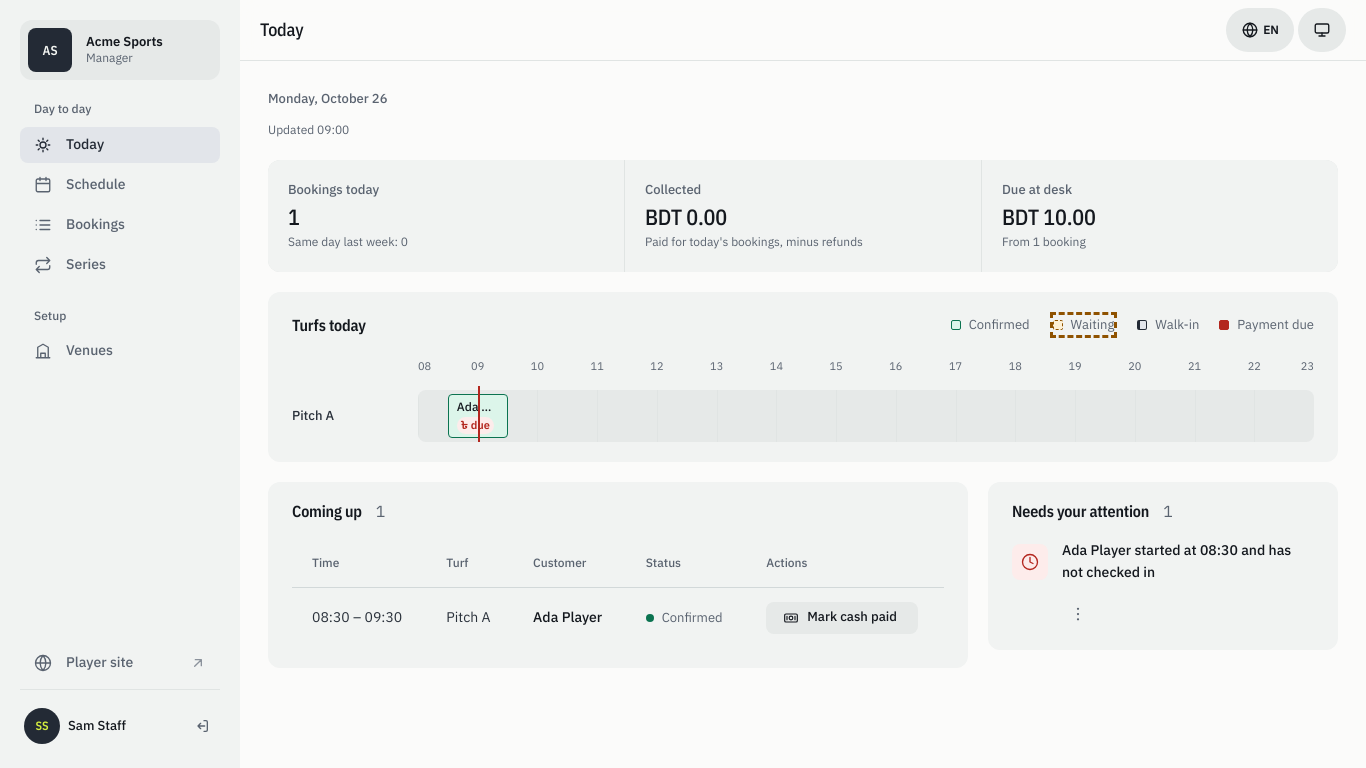
Scenario: Today page › Coming up keeps an open cash dialog when its game ends on refresh
What coordinates should you click on to do the following:
click the button "Mark cash paid"
I would click on:
 (842, 618)
Its box is left=766, top=602, right=918, bottom=634.
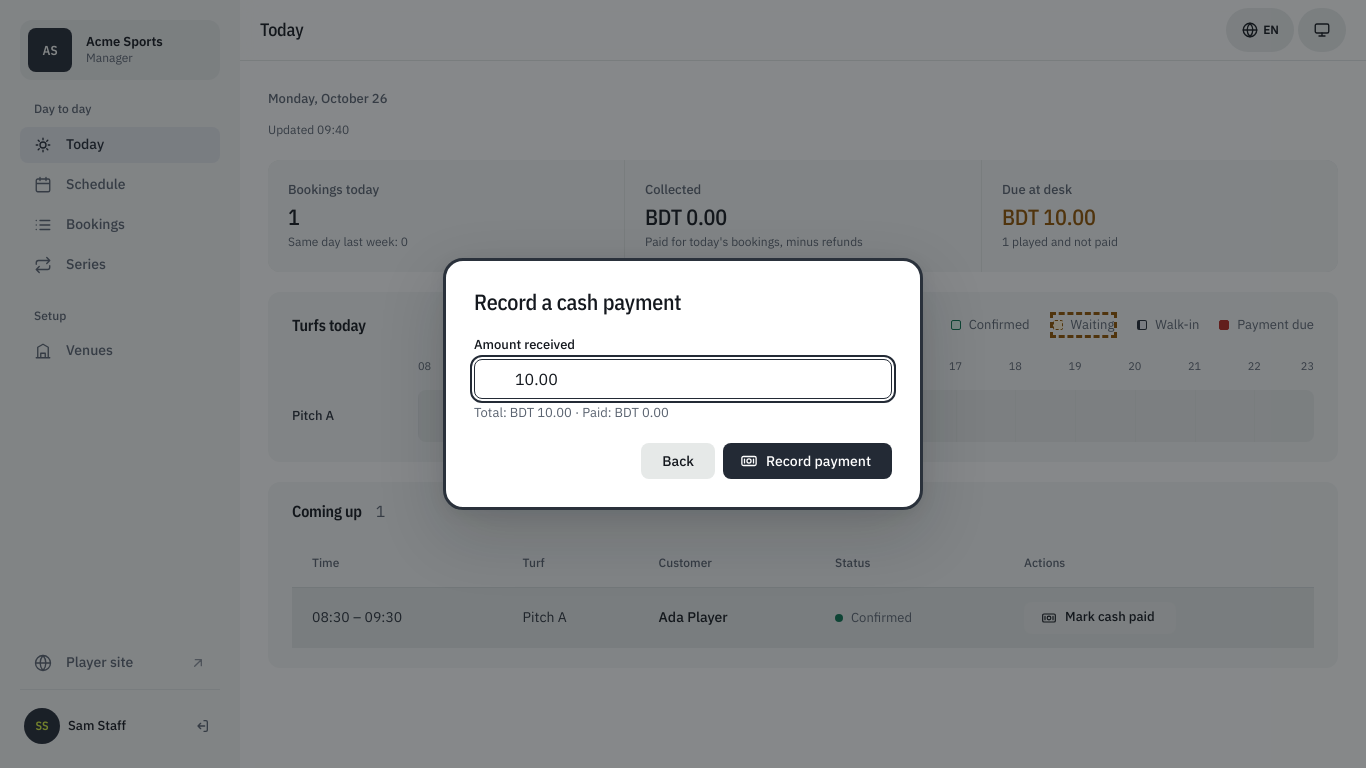
expect the text "Updated 09:40" is shown: met, box left=268, top=122, right=349, bottom=137
